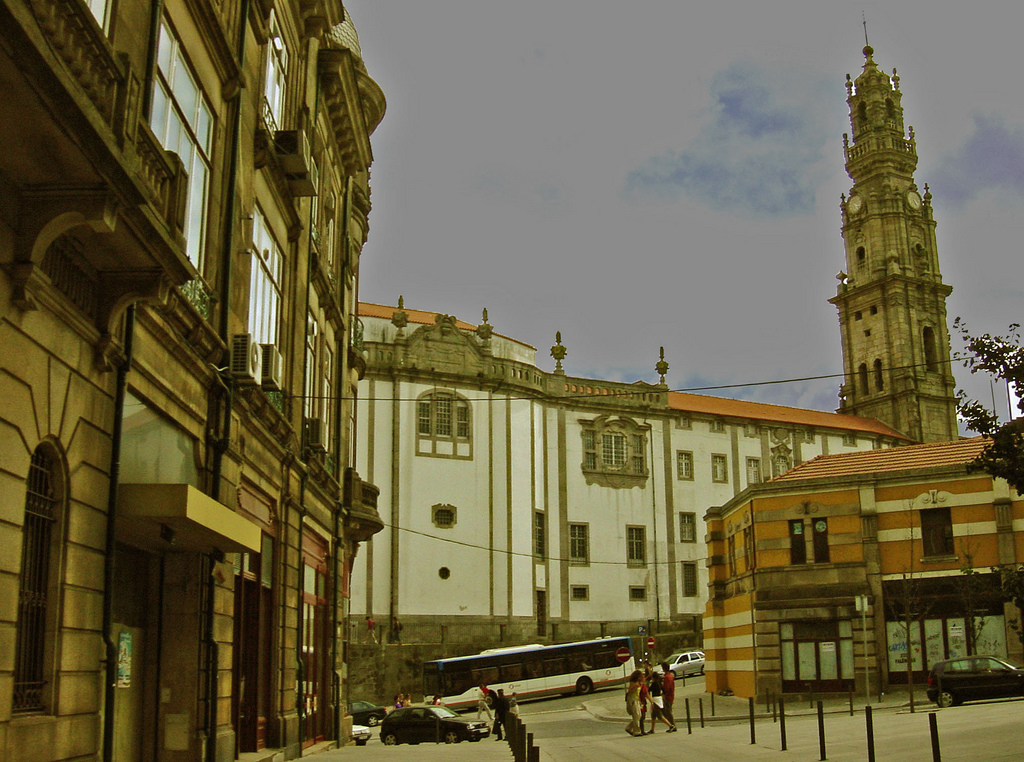clerigos: (823, 17, 965, 440)
